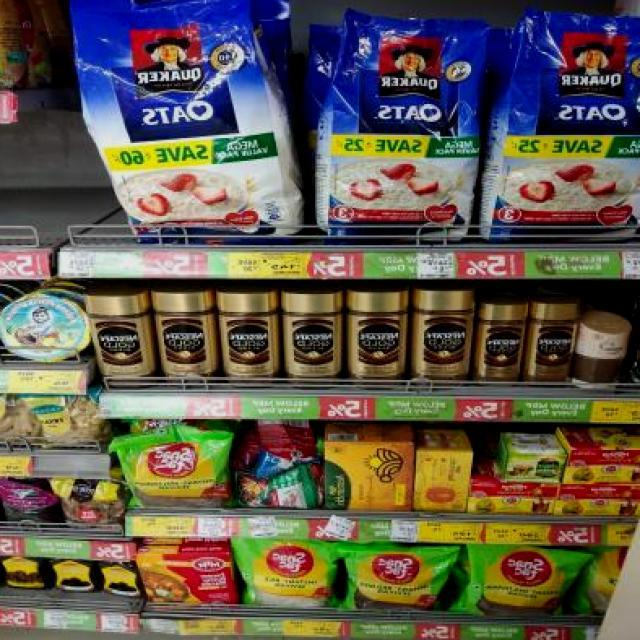Coffee: (416, 292, 474, 388), (348, 291, 404, 390), (220, 295, 274, 389), (286, 293, 338, 389), (162, 292, 213, 389), (93, 298, 146, 390), (528, 302, 578, 388), (478, 304, 526, 388)
